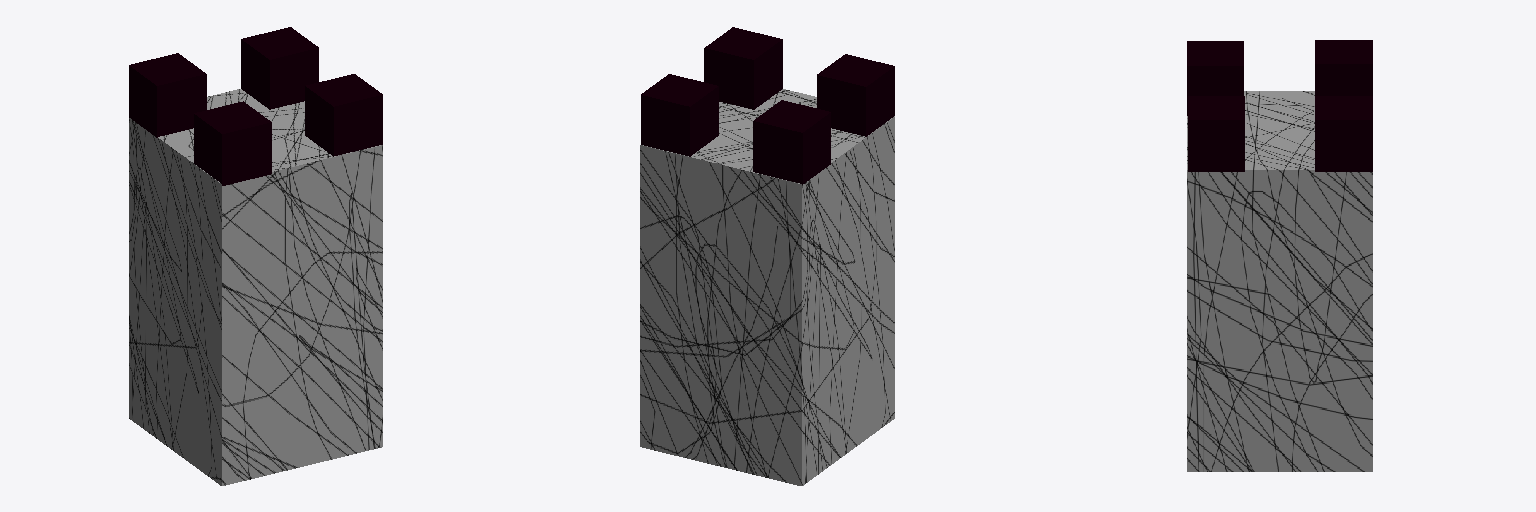
The picture shows the model from 3 angles: view 1: azimuth 30°, elevation 25°; view 2: azimuth 150°, elevation 25°; view 3: azimuth 270°, elevation 25°; orthographic projection.
Visible parts, largest first — view 1: Cube, 立方体; view 2: Cube, 立方体; view 3: Cube, 立方体.
Boxes of the visible parts, x1=… form: Cube: x1=129, y1=89, x2=382, y2=485; 立方体: x1=129, y1=27, x2=382, y2=185; Cube: x1=640, y1=89, x2=894, y2=485; 立方体: x1=641, y1=27, x2=894, y2=184; Cube: x1=1187, y1=91, x2=1372, y2=471; 立方体: x1=1187, y1=40, x2=1372, y2=171.
Bounding box in the file's own units: 6.53 × 13.61 × 6.52.
Materials: 2 (1 with a texture image).